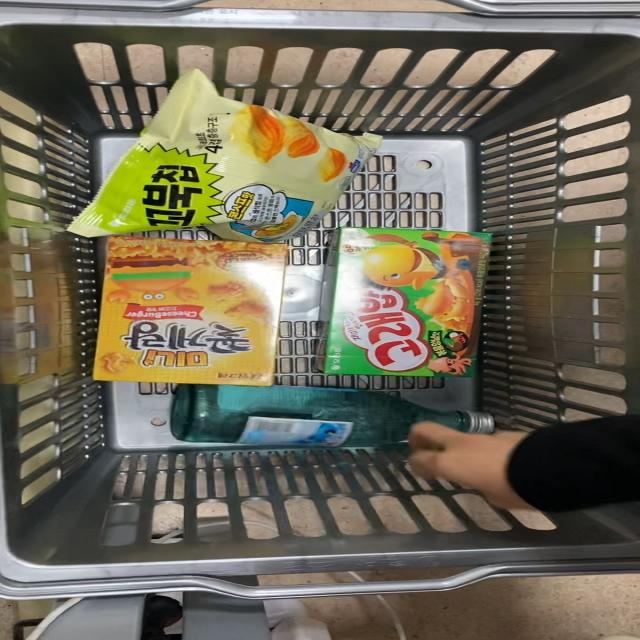ggobukchip: (69, 74, 363, 229)
goraebob: (300, 231, 502, 381)
jinro: (167, 386, 514, 454)
minicrab: (69, 235, 293, 392)
